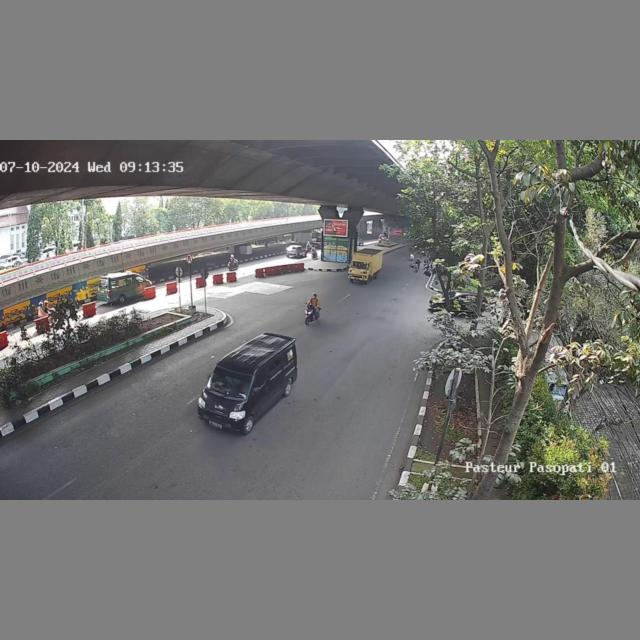windshield: (208, 364, 252, 396)
